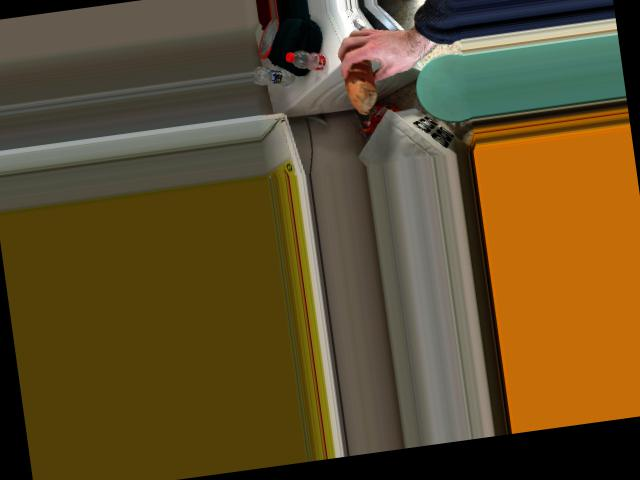sweet_potato: (341, 56, 377, 104)
